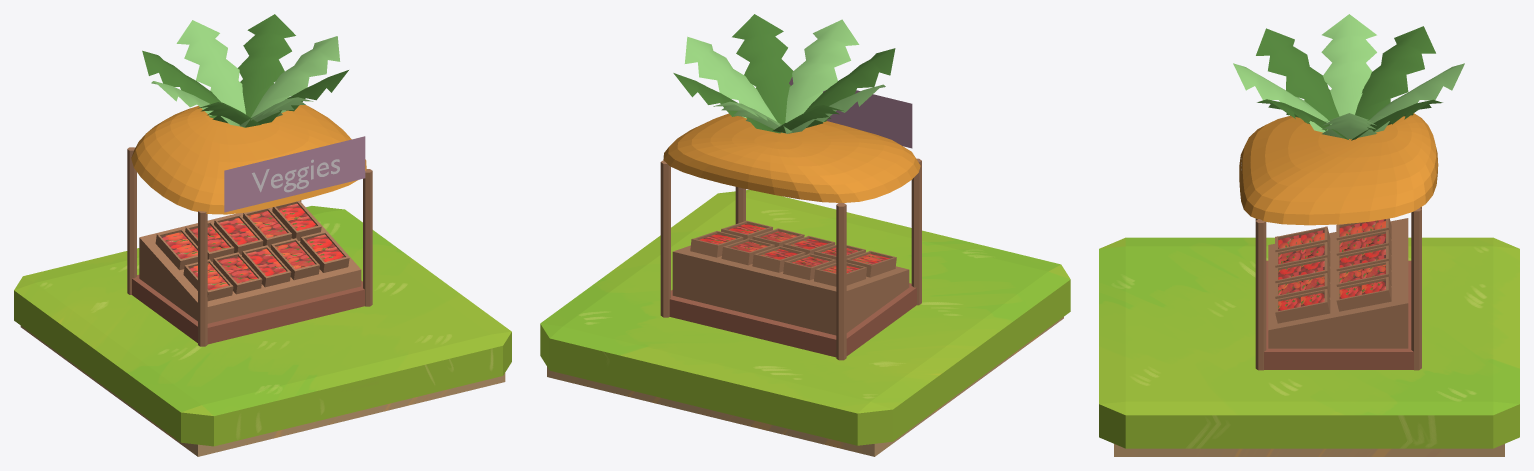
Rendered from gemeine_gemuesestand_1 Kopie.fbx.
The picture shows the model from 3 angles, left to right: view 1: azimuth 30°, elevation 25°; view 2: azimuth 150°, elevation 25°; view 3: azimuth 270°, elevation 25°; orthographic projection. The views are drawn at different scales.
Parts seen in each view (by area): view 1: Cube.001, Sphere, Cube.005, hell, Cube.008, dunkel, Plane, Plane.001, Cube.006, Cylinder.003, Cube, Text; view 2: Cube.001, Sphere, Cube.005, hell, dunkel, Cube.006, Cube.008, Cylinder.003, Cube, Plane, Plane.001; view 3: Cube.001, Sphere, Cube.005, dunkel, hell, Cube.008, Plane.001, Cube.006, Cube, Cylinder.003.
Part boxes in pixels (x1,y1,x2,y2): Cube.001: [14, 206, 511, 446]; Sphere: [131, 105, 366, 214]; Cube.005: [139, 200, 361, 323]; hell: [151, 20, 340, 127]; Cube.008: [155, 201, 349, 301]; dunkel: [142, 14, 348, 127]; Plane: [224, 136, 365, 212]; Plane.001: [161, 203, 344, 290]; Cube.006: [132, 274, 364, 344]; Cylinder.003: [127, 147, 372, 346]; Cube: [20, 326, 505, 456]; Text: [252, 159, 339, 192]; Cube.001: [540, 190, 1070, 445]; Sphere: [663, 113, 920, 202]; Cube.005: [672, 245, 909, 335]; hell: [684, 19, 885, 133]; dunkel: [673, 14, 895, 133]; Cube.006: [669, 283, 916, 357]; Cube.008: [690, 220, 896, 286]; Cylinder.003: [660, 158, 921, 360]; Cube: [547, 317, 1063, 456]; Plane: [789, 77, 912, 148]; Plane.001: [699, 223, 889, 273]; Cube.001: [1099, 237, 1519, 448]; Sphere: [1239, 113, 1438, 225]; Cube.005: [1268, 218, 1408, 348]; dunkel: [1256, 26, 1442, 140]; hell: [1233, 14, 1464, 139]; Cube.008: [1275, 218, 1391, 323]; Plane.001: [1278, 219, 1385, 310]; Cube.006: [1264, 260, 1413, 369]; Cube: [1114, 444, 1504, 456]; Cylinder.003: [1255, 207, 1421, 370].
Bounding box in the file's own units: 108 × 87.88 × 108.
10 materials, 3 textured.
